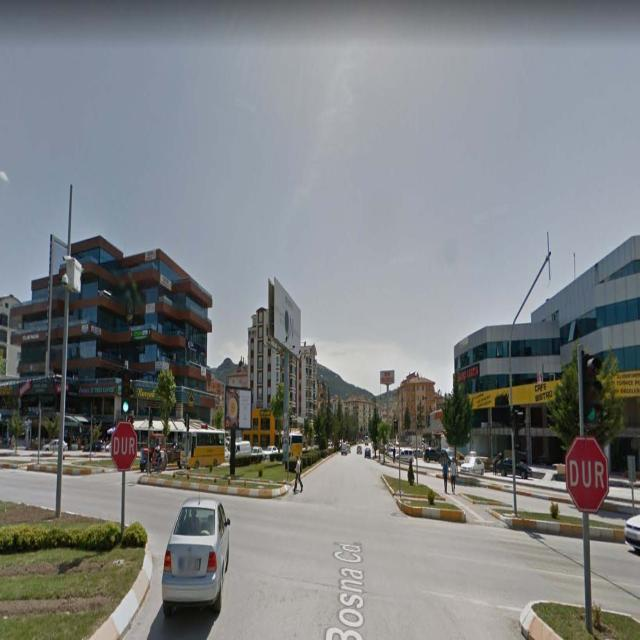dur: (567, 438, 609, 515), (112, 422, 136, 469)
yesil: (584, 355, 598, 423), (122, 369, 128, 415)
